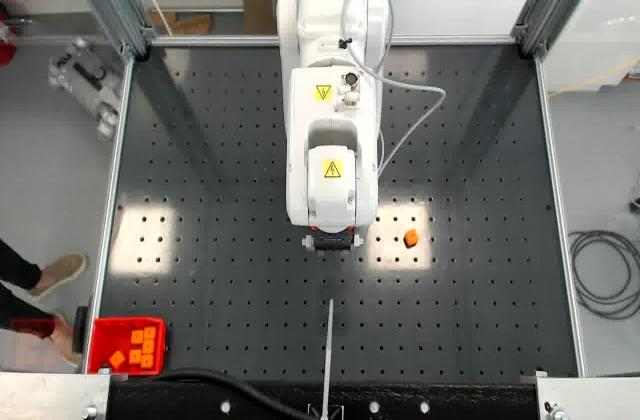cube: (402, 227, 422, 249)
